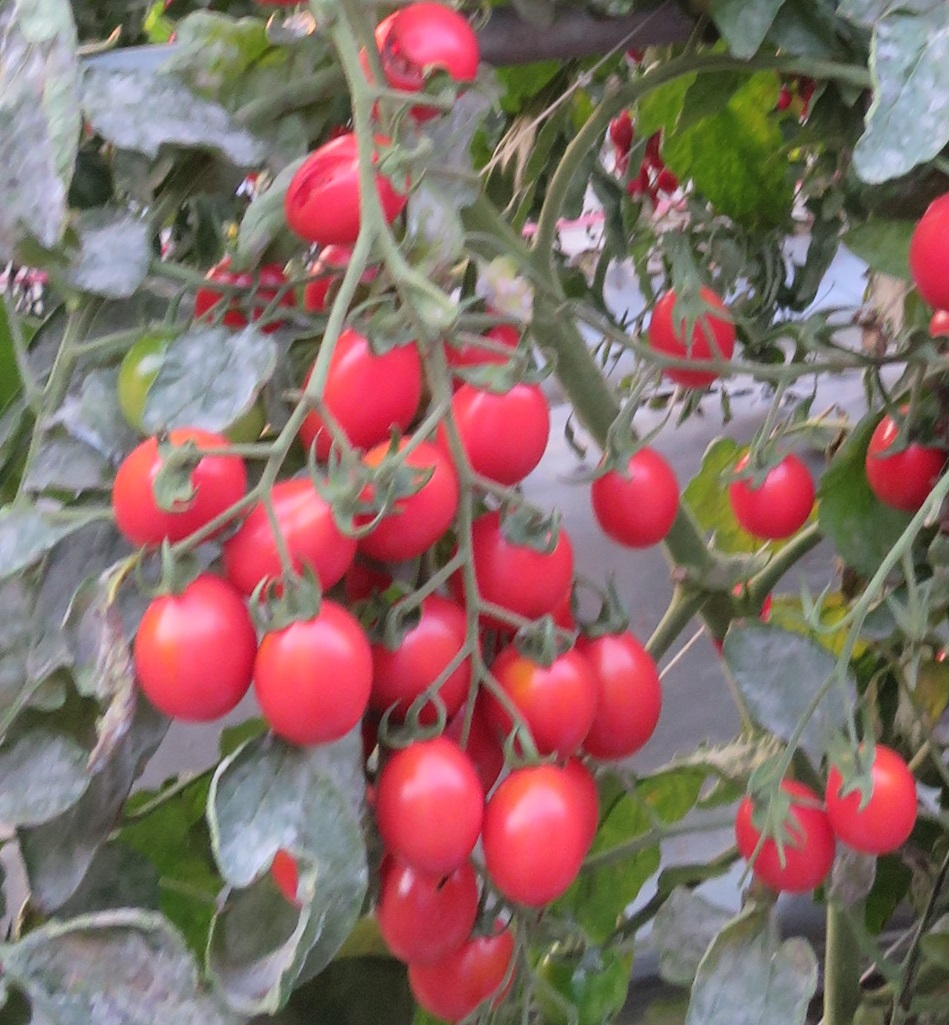green: (118, 332, 172, 423)
red: (130, 575, 257, 722), (281, 126, 423, 251), (229, 473, 370, 598), (376, 723, 490, 876), (254, 600, 373, 744), (300, 326, 425, 461), (486, 756, 592, 911), (113, 424, 244, 547), (486, 631, 597, 767), (340, 441, 460, 566), (355, 5, 500, 104), (366, 598, 481, 718), (434, 373, 549, 490), (590, 616, 675, 772), (823, 742, 942, 853), (466, 502, 565, 635), (371, 866, 491, 966), (409, 919, 517, 1022), (737, 782, 832, 895), (644, 274, 732, 393), (591, 445, 681, 551), (862, 403, 949, 512), (194, 255, 298, 342), (726, 442, 815, 542), (909, 189, 949, 321), (610, 111, 639, 148), (656, 166, 681, 194)
